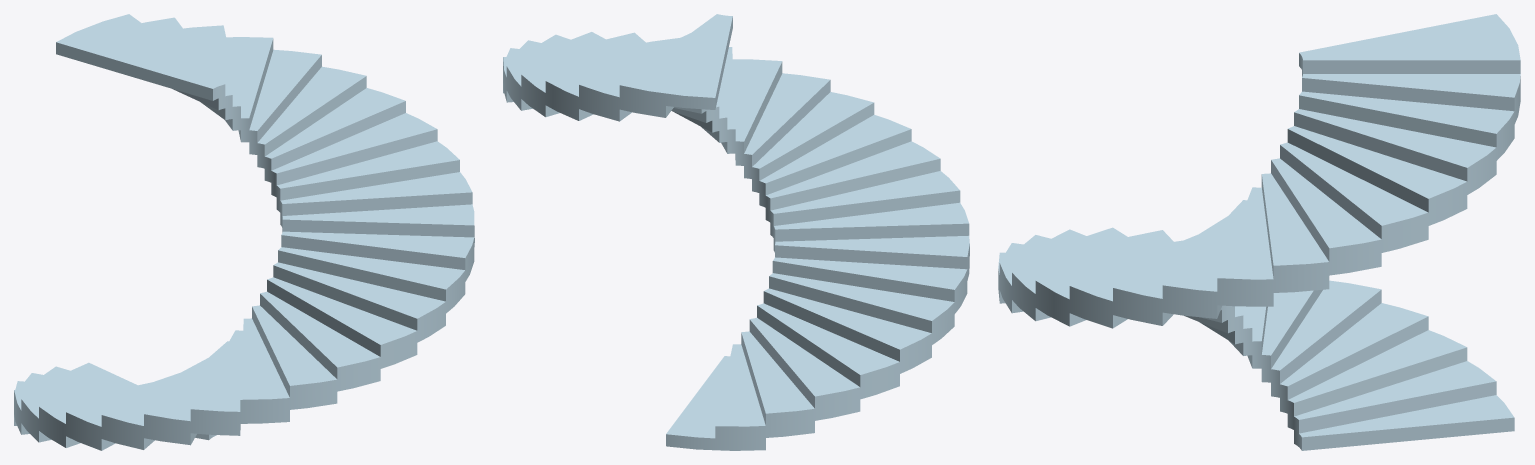
The model's file is StairCase - StairCase.gltf.
3 views of the same model, side by side, from view 1: azimuth 30°, elevation 25°; view 2: azimuth 150°, elevation 25°; view 3: azimuth 270°, elevation 25° (orthographic). The views are drawn at different scales.
Parts seen in each view (by area): view 1: StairCase; view 2: StairCase; view 3: StairCase.
Boxes of the visible parts, bbox=[...] form: StairCase: bbox=[14, 14, 474, 450]; StairCase: bbox=[503, 14, 969, 450]; StairCase: bbox=[998, 14, 1520, 450].
Size of the model in its own units: 6 by 5 by 6.
